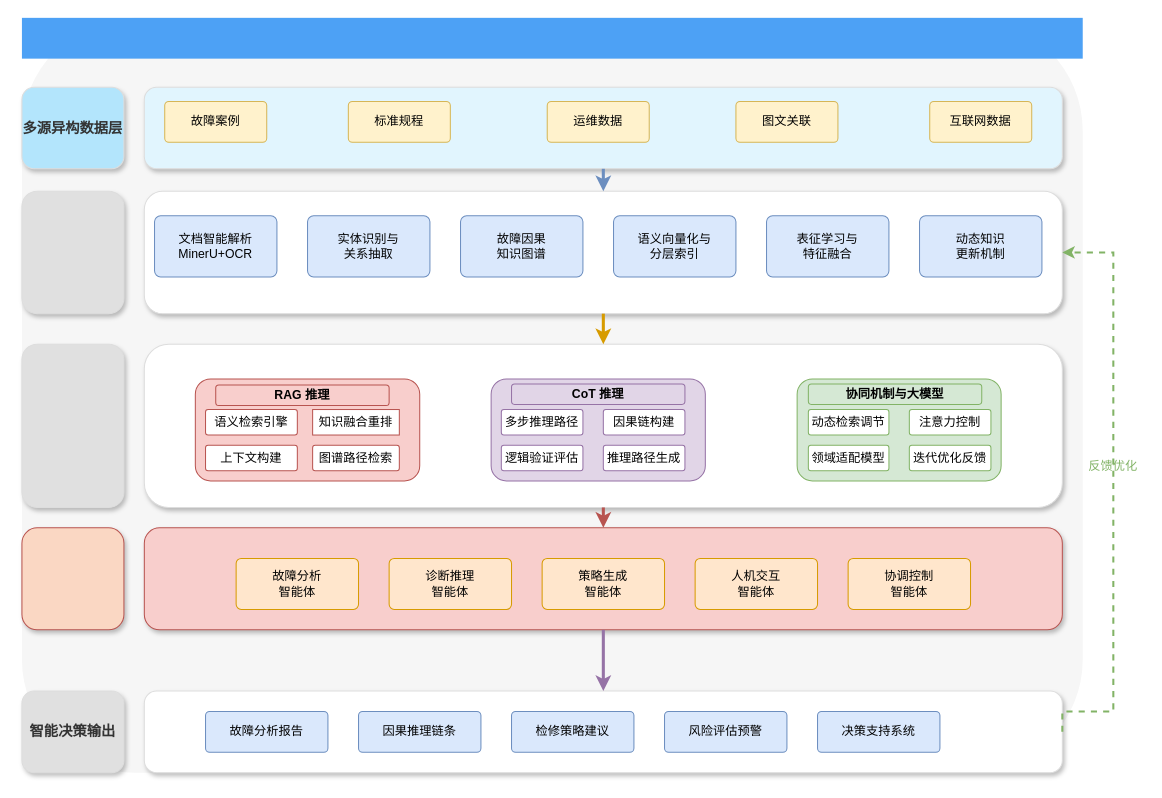
This 1162x798 diagram has some shape labels left out. The centre of each missing label's shape, as x and y in pixels:
"RAG+CoT协同推理层" goes at point 73,427.
"基于RAG+CoT的变电设备故障分析推理技术架构" goes at point 551,37.
"智能体应用层" goes at point 73,580.
"知识构建与表征学习层" goes at point 73,253.
